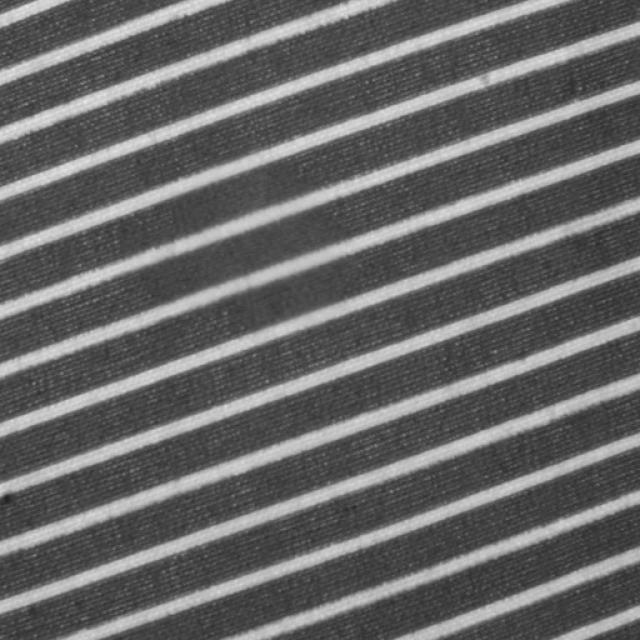Stain-Defect: (119, 91, 374, 357)
